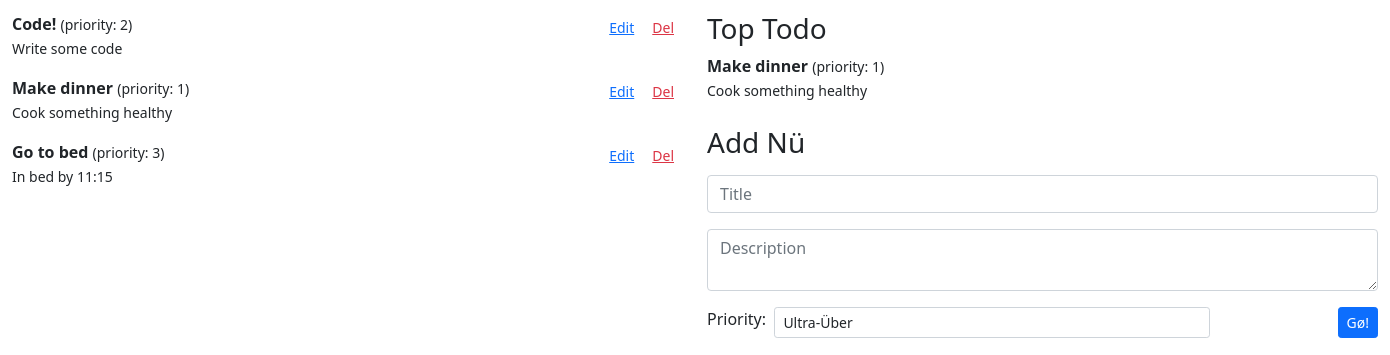
Scenario: TodoApp Component › mock adding new todo
Expected: the text "test Todo" is not shown
Note: Set values for form
In the field with id "newTodo-title": {"x": 1042, "y": 194} x1=707 y1=175 x2=1378 y2=213, type "test Todo"
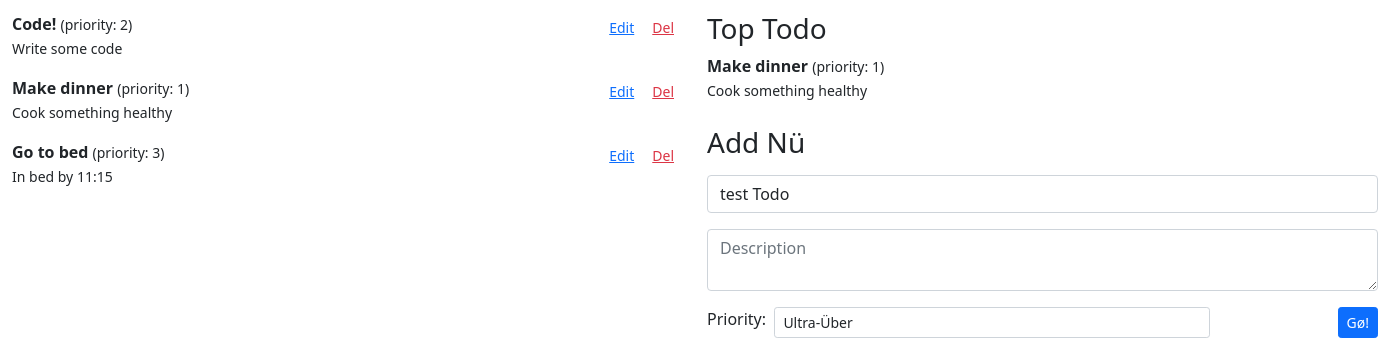
In the text box with id "newTodo-description": {"x": 1042, "y": 260} x1=707 y1=229 x2=1378 y2=291, type "test description"
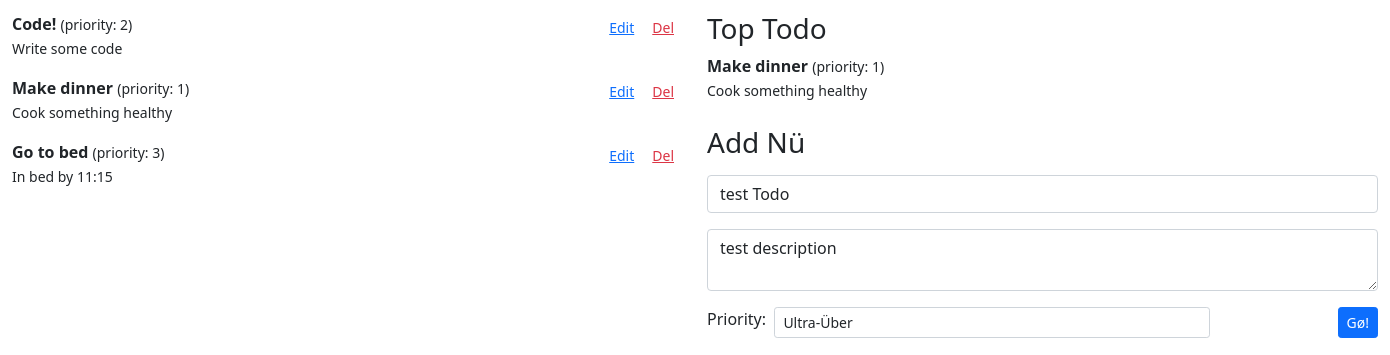
Select "Meh" in the dropdown with id "newTodo-priority": {"x": 992, "y": 323} x1=774 y1=307 x2=1210 y2=338
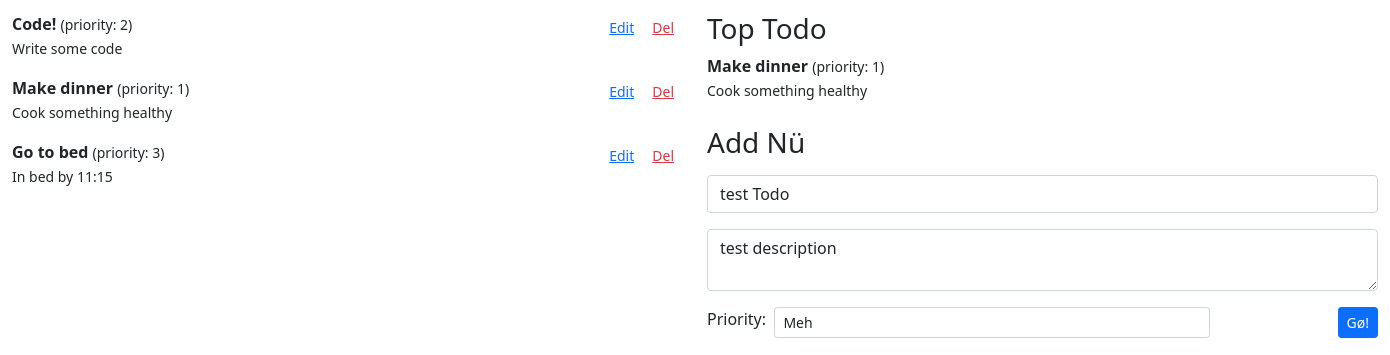
Note: click button/submit form
Click the button with id "submit-btn": {"x": 1358, "y": 323} x1=1338 y1=307 x2=1378 y2=338
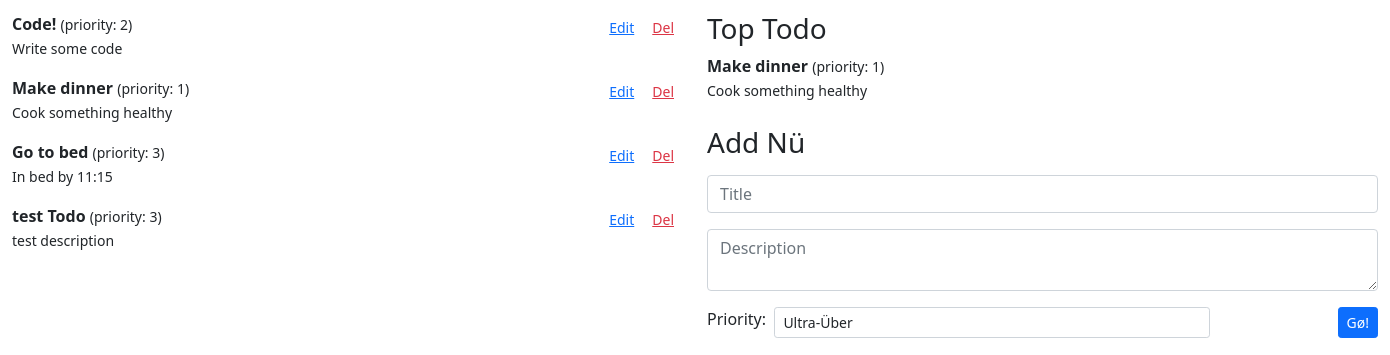
Now the text "test Todo" is shown, box x1=12 y1=205 x2=86 y2=227
